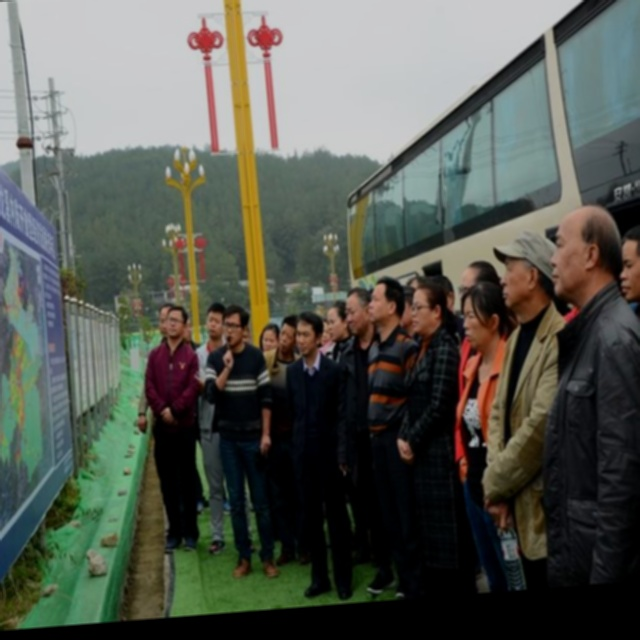Sin_Casco_Mascarrilla: (549, 204, 627, 306), (490, 222, 558, 314), (221, 303, 252, 348), (294, 310, 324, 353)
